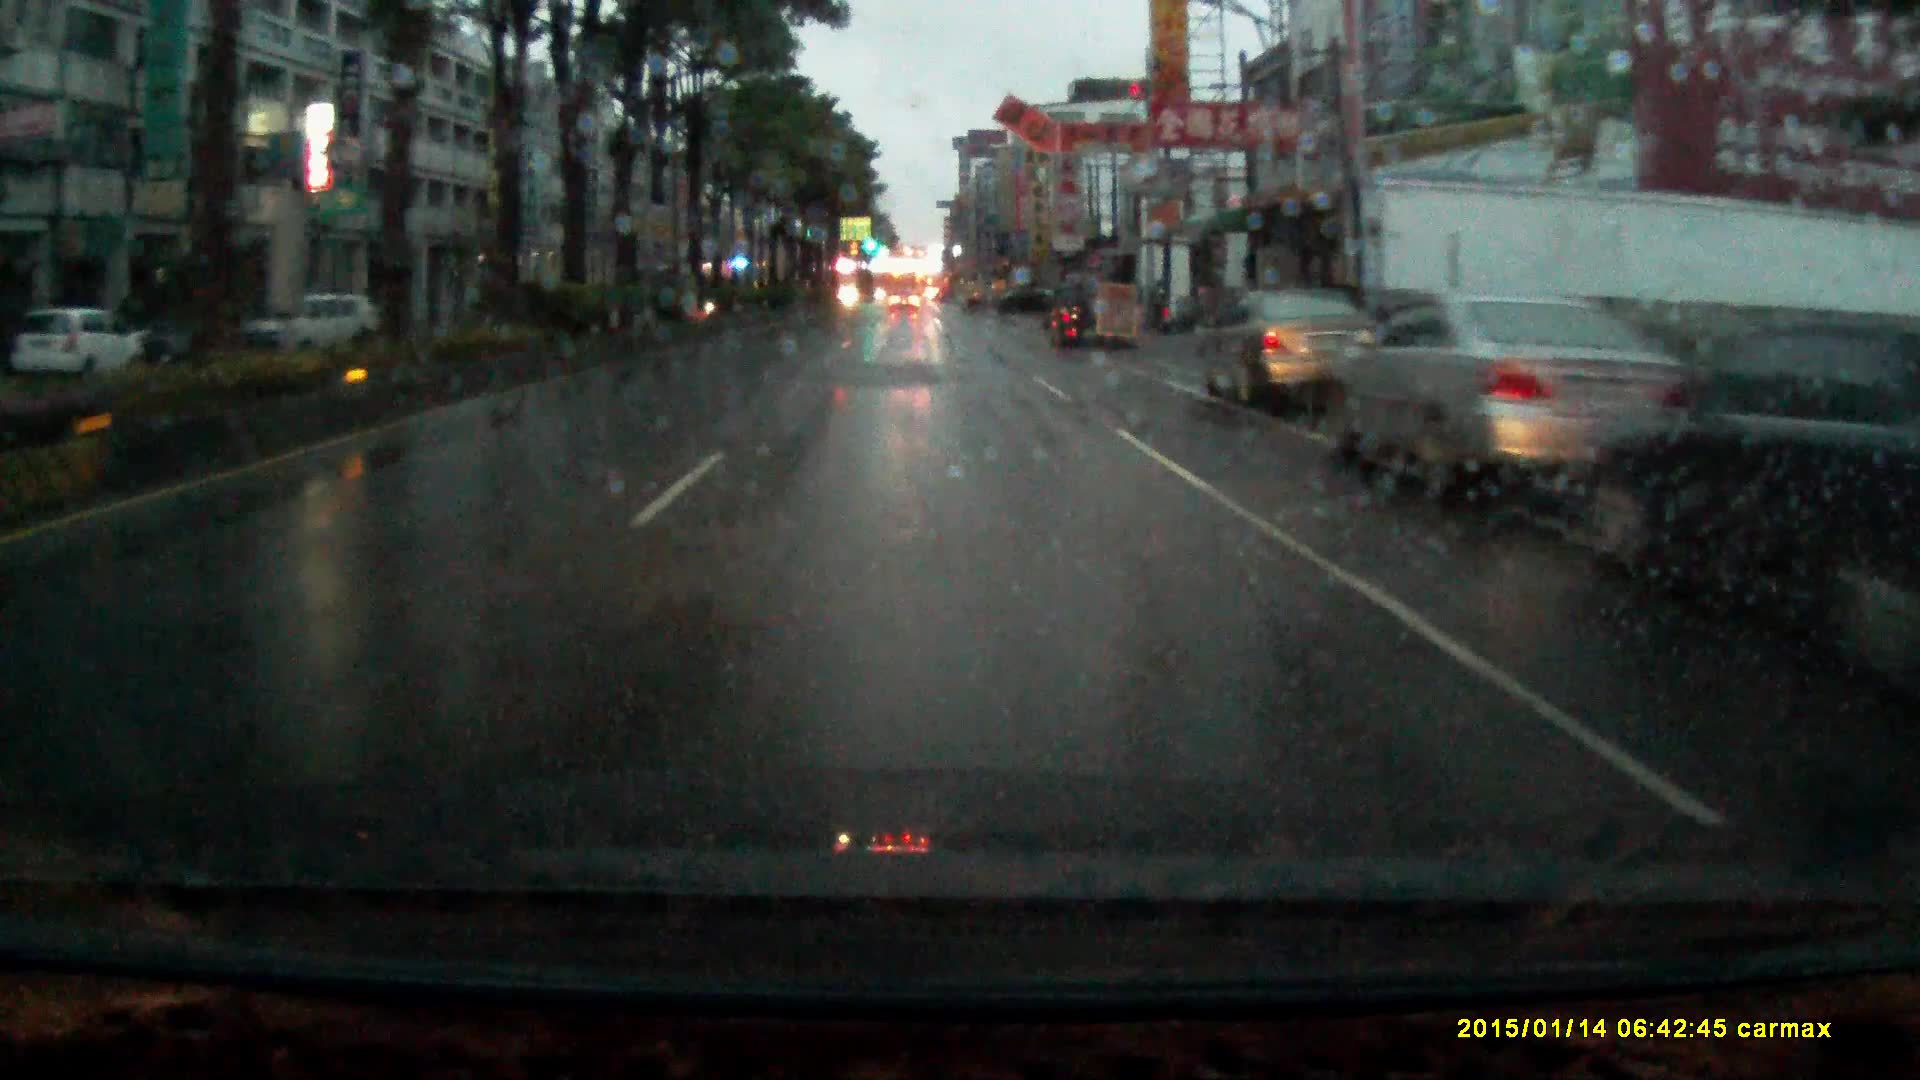vehicle: (1584, 319, 1892, 597), (1320, 295, 1718, 508), (1201, 295, 1385, 411), (16, 311, 142, 385), (232, 295, 371, 360), (1048, 282, 1129, 355), (889, 289, 922, 320)
